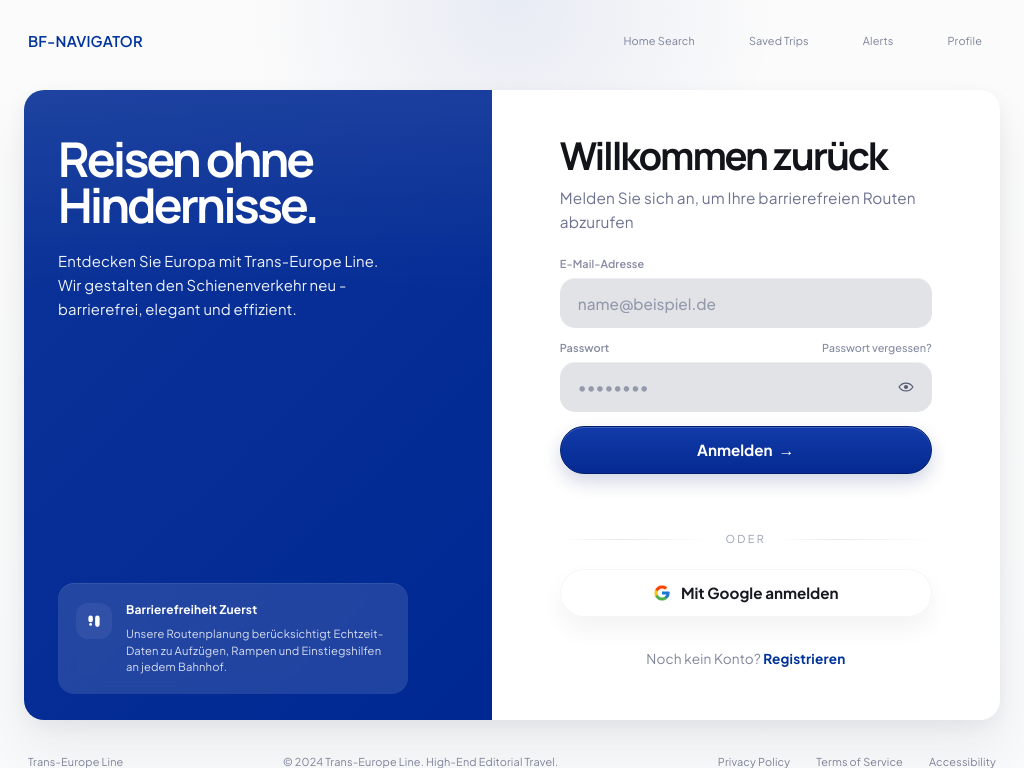
Test: Login › shows validation errors, sets aria-invalid, and blocks submit when fields are empty
Click the button "Anmelden →".
click(746, 450)  # box [560,426,932,474]
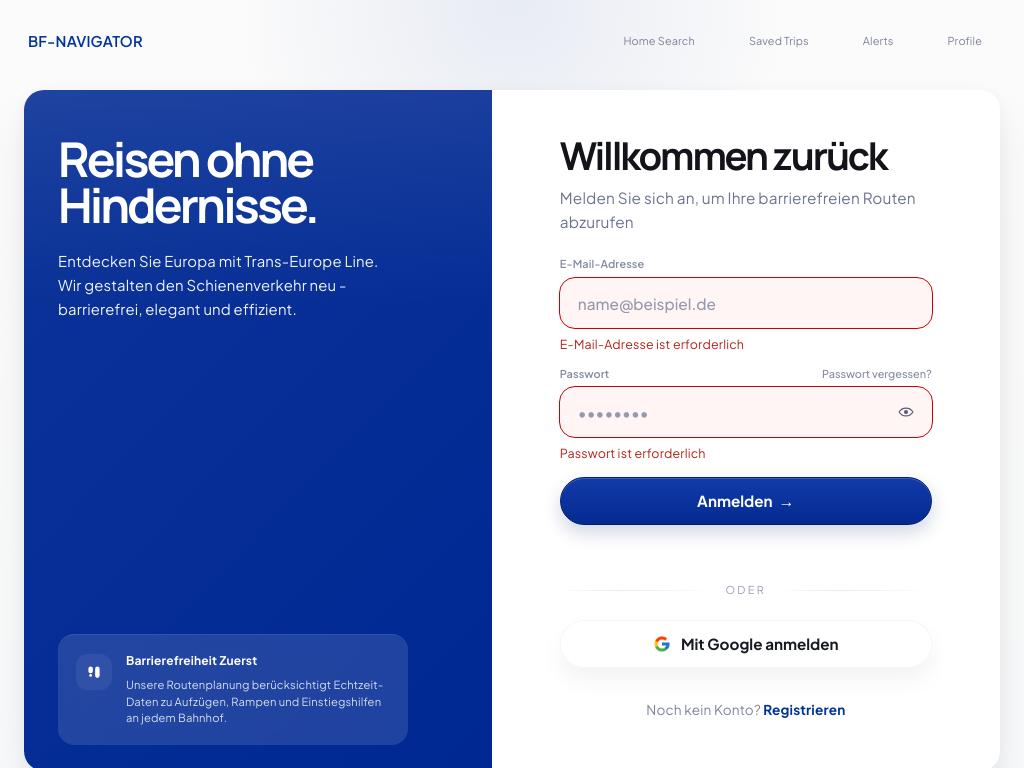
Check: the text "E-Mail-Adresse ist erforderlich" is shown, box [560,336,744,352]
Check: the text "Passwort ist erforderlich" is shown, box [560,446,706,462]
